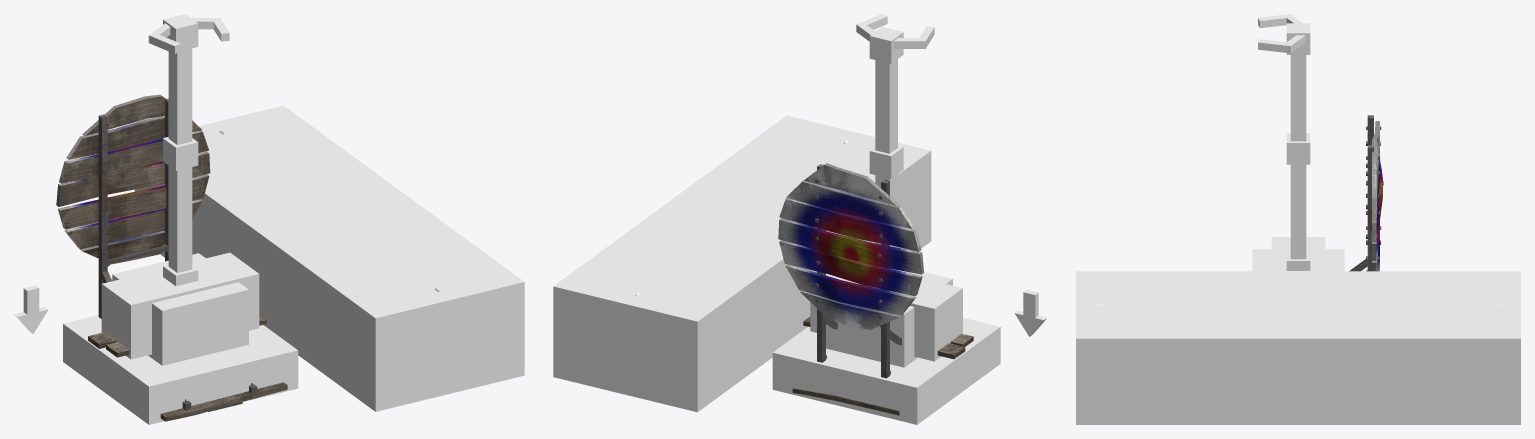
File: RobotGrabberArm.glb
3 renders of one model, left to right at view 1: azimuth 30°, elevation 25°; view 2: azimuth 150°, elevation 25°; view 3: azimuth 270°, elevation 25°, orthographic. The views are drawn at different scales.
Parts seen in each view (by area): view 1: grabareaghost, RobotGrabberArm, Cube, Cube (1), Cube (2), renderer (×2), ArmPiece (1) (×2), ghostarrow (3), cube; view 2: grabareaghost, RobotGrabberArm, Cube, Cube (2), Cube (1), renderer, ArmPiece (1) (×2), ghostarrow (3); view 3: grabareaghost, renderer (×2), RobotGrabberArm, ArmPiece (1) (×2), Cube (2), Cube (1).
Boxes of the visible parts, x1,y1,x2,y2 form: grabareaghost: [134, 105, 524, 411]; RobotGrabberArm: [56, 94, 287, 421]; Cube: [63, 315, 298, 424]; Cube (1): [112, 253, 248, 365]; Cube (2): [101, 252, 259, 359]; renderer (×2): [168, 48, 192, 272]; ArmPiece (1) (×2): [163, 14, 198, 170]; ghostarrow (3): [14, 285, 48, 333]; cube: [163, 265, 198, 286]; grabareaghost: [553, 115, 931, 412]; RobotGrabberArm: [778, 163, 973, 415]; Cube: [772, 317, 1000, 424]; Cube (2): [810, 273, 962, 361]; Cube (1): [826, 271, 952, 367]; renderer: [875, 59, 897, 153]; ArmPiece (1) (×2): [869, 27, 903, 178]; ghostarrow (3): [1014, 289, 1047, 336]; grabareaghost: [1076, 271, 1520, 424]; renderer (×2): [1290, 55, 1306, 259]; RobotGrabberArm: [1349, 115, 1383, 271]; ArmPiece (1) (×2): [1286, 23, 1310, 164]; Cube (2): [1271, 237, 1325, 271]; Cube (1): [1252, 249, 1344, 271].
Size of the model in its own units: 2.6 by 2.27 by 2.8.
5 materials, 1 textured.
